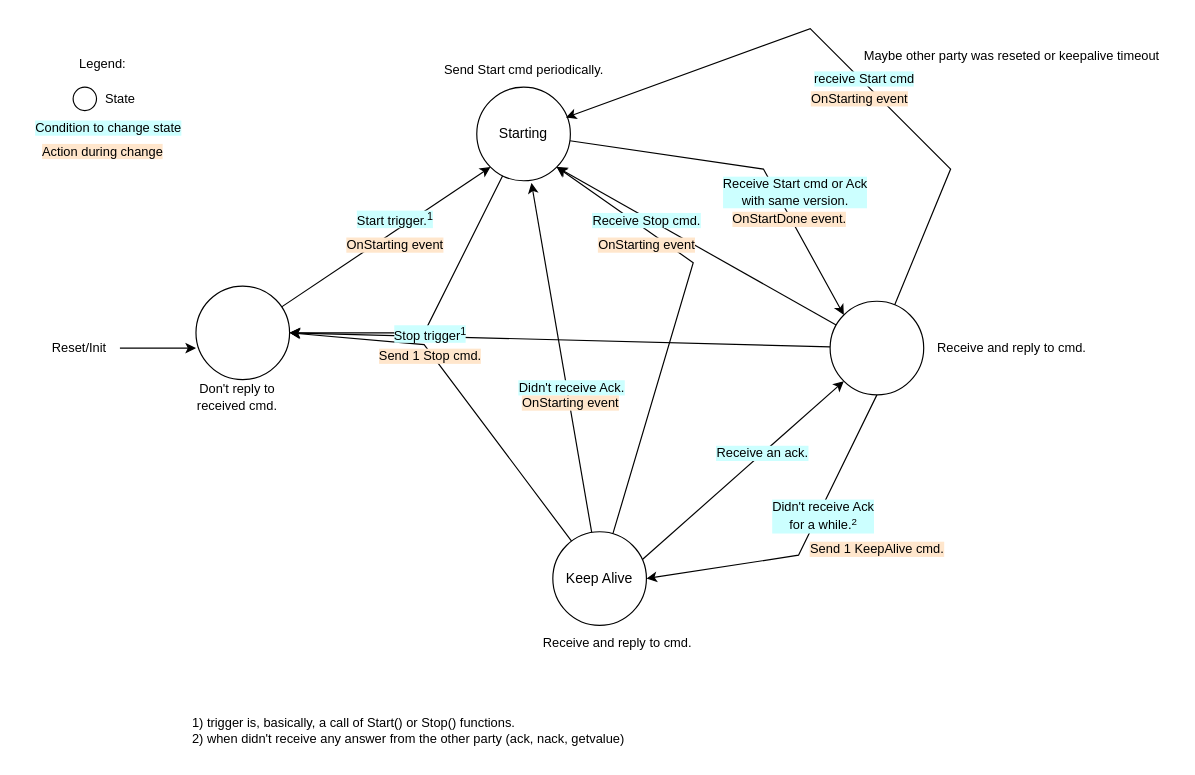
Some shapes in this 1195 by 775 pixel diagram are drawn without their labels. The shapes that lost their labels are listed below. From the top down, each one's centre as x and y in pixels, then its label:
At pixel 242 332: "Stopped".
At pixel 876 347: "Running".
